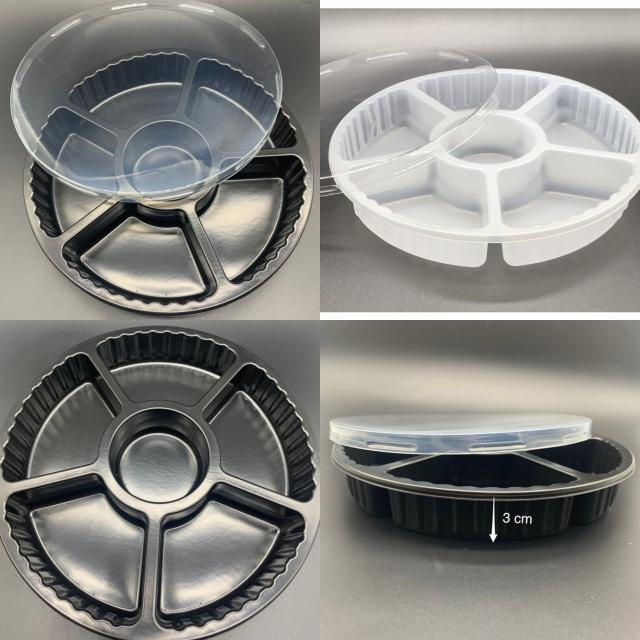Single-Use-Plastic: (0, 328, 319, 640), (24, 50, 312, 313), (329, 61, 640, 266), (11, 0, 282, 203), (330, 415, 635, 541), (330, 414, 591, 454)
